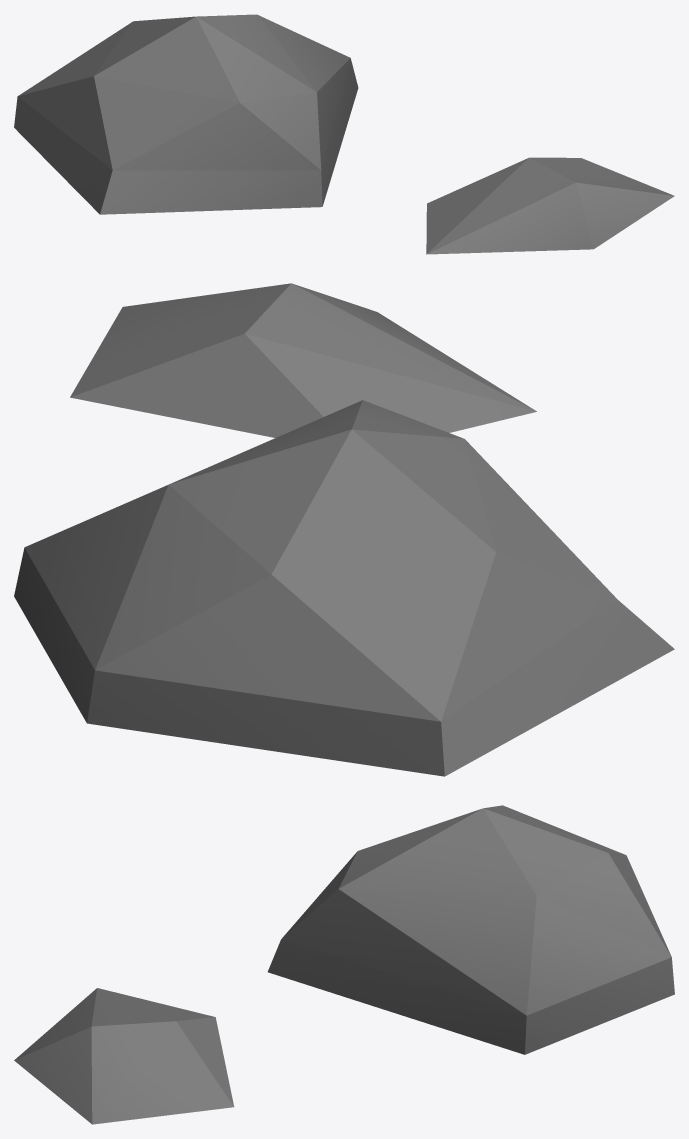
Rendered from stones_1.glb.
3 views of the same model, one above another, from view 1: azimuth 30°, elevation 25°; view 2: azimuth 150°, elevation 25°; view 3: azimuth 270°, elevation 25° (orthographic). The views are drawn at different scales.
Visible parts, largest first — view 1: stones_1; view 2: stones_1; view 3: stones_1.
Part boxes in pixels (x1=…): stones_1: x1=14, y1=14, x2=674, y2=254; stones_1: x1=14, y1=283, x2=674, y2=776; stones_1: x1=14, y1=805, x2=674, y2=1124.
Size of the model in its own units: 0.8835 by 0.2416 by 0.9882.
Materials: 1 (1 with a texture image).
